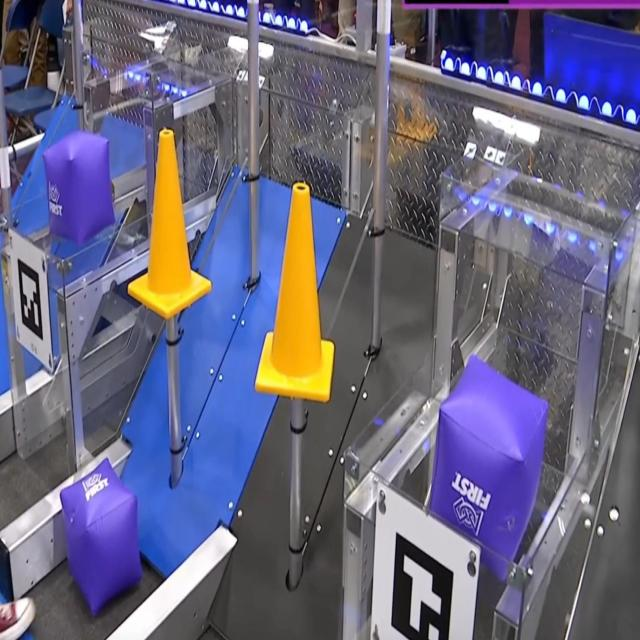frc_cone: (257, 180, 334, 403), (130, 129, 213, 320)
frc_cube: (425, 349, 547, 584), (58, 456, 141, 613), (44, 133, 116, 243)
